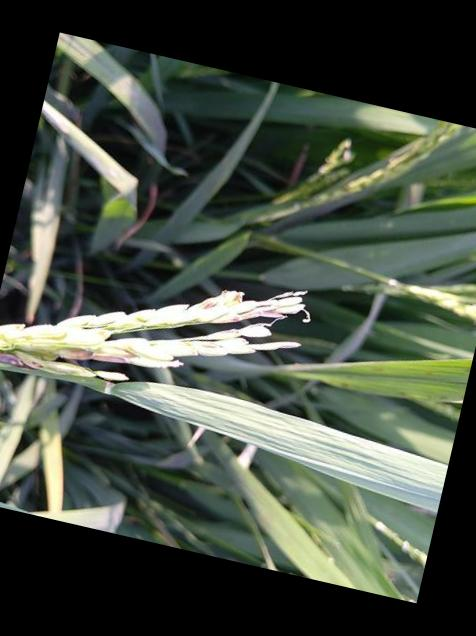Panicle Blight: (175, 278, 303, 323), (0, 349, 65, 378), (56, 343, 131, 363)
